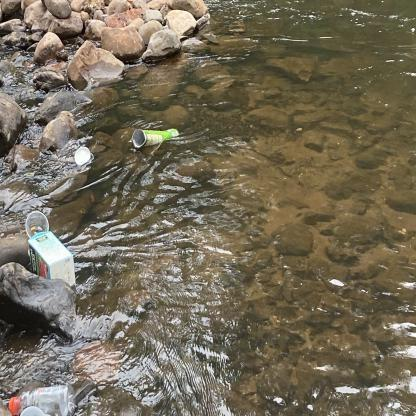Metal: (128, 123, 182, 153)
Plastic: (5, 379, 79, 416)
Trash: (70, 143, 99, 171)
